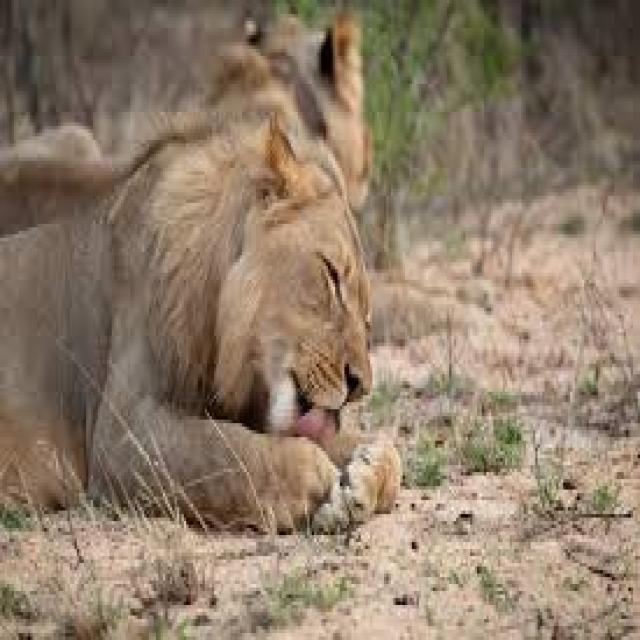Lion: (0, 111, 395, 538)
